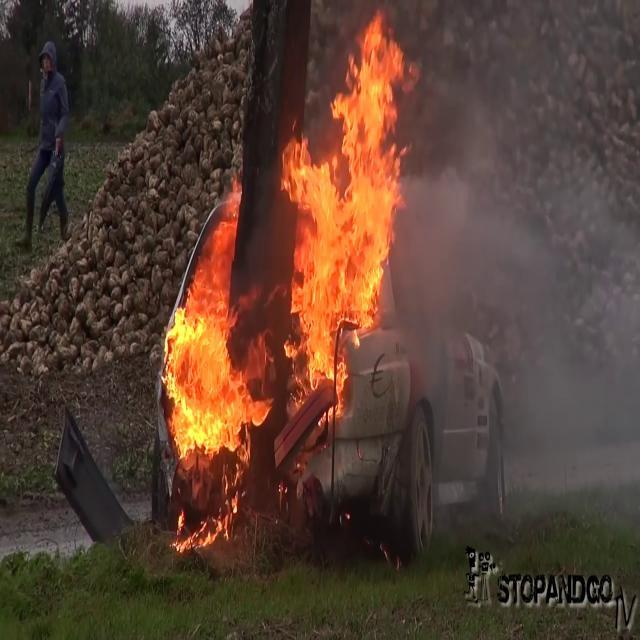Fire: (275, 8, 418, 394), (158, 183, 266, 473)
Smoke: (403, 80, 639, 526)
